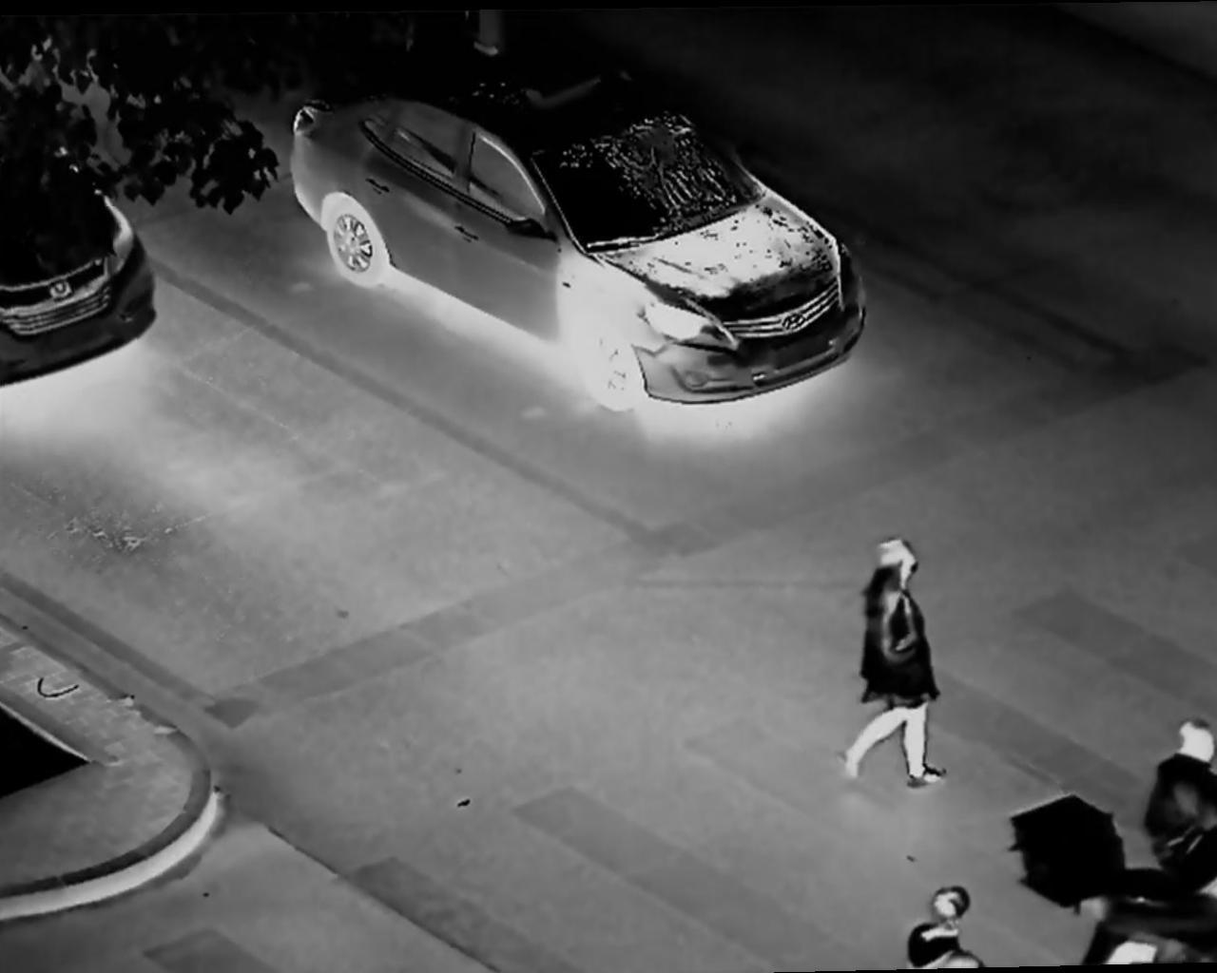person: (835, 534, 956, 796), (1142, 716, 1217, 878), (889, 882, 997, 973)
